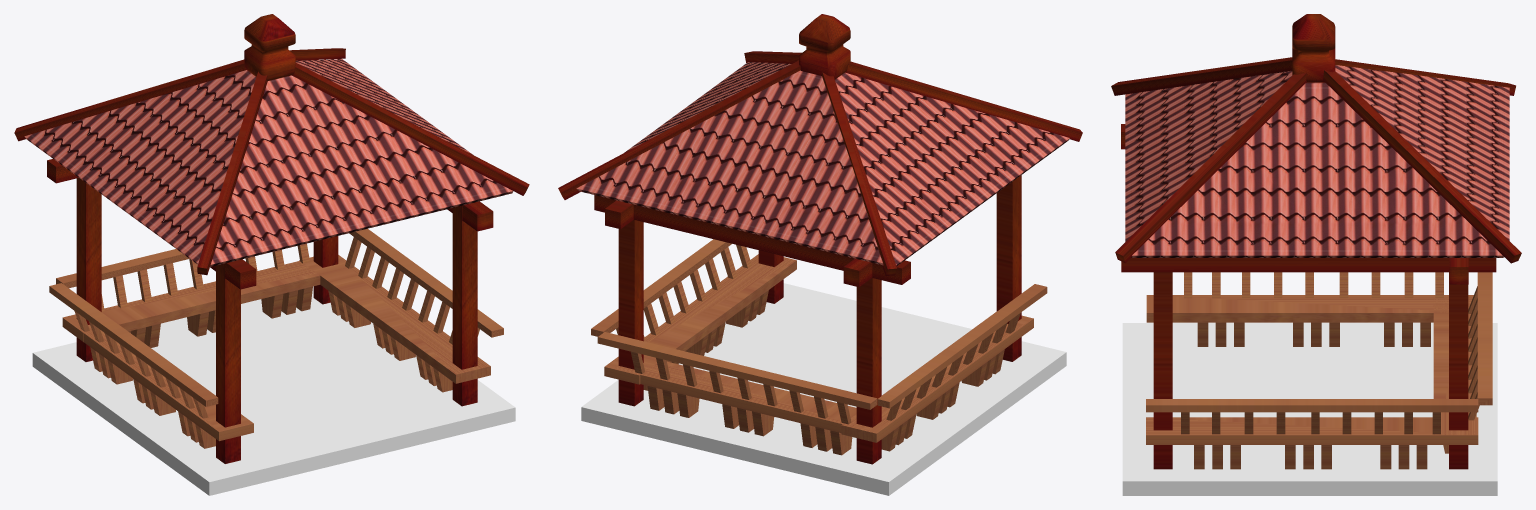
Rendered from paillion.FBX.
3 renders of one model, left to right at view 1: azimuth 30°, elevation 25°; view 2: azimuth 150°, elevation 25°; view 3: azimuth 270°, elevation 25°, orthographic. The views are drawn at different scales.
Visible parts, largest first — view 1: Box01, Rectangl28.Rectangl32, Rectangl28.Rectangl30, Box06, Box06.Box08, Box02.Box04, Box02.Box05, Box15, Box02, Box07.Box11, Box06.Box10, ChamferBox (+9 smaller); view 2: Box01, Rectangl28, Rectangl28.Rectangl30, Box06, Box06.Box08, Box12.Box13, Box02, Box07.Box09, Box02.Box03, Box02.Box05, Box06.Box10, Box07.Box11 (+10 smaller); view 3: Box01, Rectangl28.Rectangl34, Rectangl28, Rectangl28.Rectangl32, Box06.Box10, Box06, Box12, Box07, Box15.Box16, Box15, Box02.Box04, Box02.Box03 (+6 smaller).
Part boxes in pixels (x1,y1,x2,y2): Box01: [32, 286, 515, 495]; Rectangl28.Rectangl32: [210, 75, 513, 266]; Rectangl28.Rectangl30: [24, 70, 256, 264]; Box06: [299, 255, 490, 383]; Box06.Box08: [63, 258, 320, 342]; Box02.Box04: [452, 205, 477, 406]; Box02.Box05: [216, 263, 240, 463]; Box15: [292, 63, 529, 195]; Box02: [76, 178, 101, 361]; Box07.Box11: [49, 283, 218, 406]; Box06.Box10: [62, 314, 253, 441]; ChamferBox: [244, 14, 295, 81]; Box01: [581, 283, 1066, 495]; Rectangl28: [576, 70, 883, 265]; Rectangl28.Rectangl30: [835, 72, 1069, 266]; Box06: [604, 254, 796, 384]; Box06.Box08: [607, 361, 898, 441]; Box12.Box13: [594, 195, 910, 284]; Box02: [856, 278, 881, 464]; Box07.Box09: [597, 332, 877, 409]; Box02.Box03: [618, 220, 643, 406]; Box02.Box05: [996, 175, 1021, 361]; Box06.Box10: [841, 312, 1033, 442]; Box07.Box11: [877, 284, 1047, 408]; Box01: [1122, 323, 1497, 495]; Rectangl28.Rectangl34: [1131, 83, 1503, 257]; Rectangl28: [1335, 65, 1509, 240]; Rectangl28.Rectangl32: [1125, 71, 1292, 241]; Box06.Box10: [1146, 295, 1473, 322]; Box06: [1146, 417, 1478, 444]; Box12: [1121, 258, 1496, 272]; Box07: [1146, 399, 1478, 412]; Box15.Box16: [1323, 70, 1521, 263]; Box15: [1115, 73, 1306, 263]; Box02.Box04: [1153, 272, 1172, 469]; Box02.Box03: [1449, 272, 1468, 469].
Size of what is drawn, in the model's own units: 974 by 1042 by 974.
